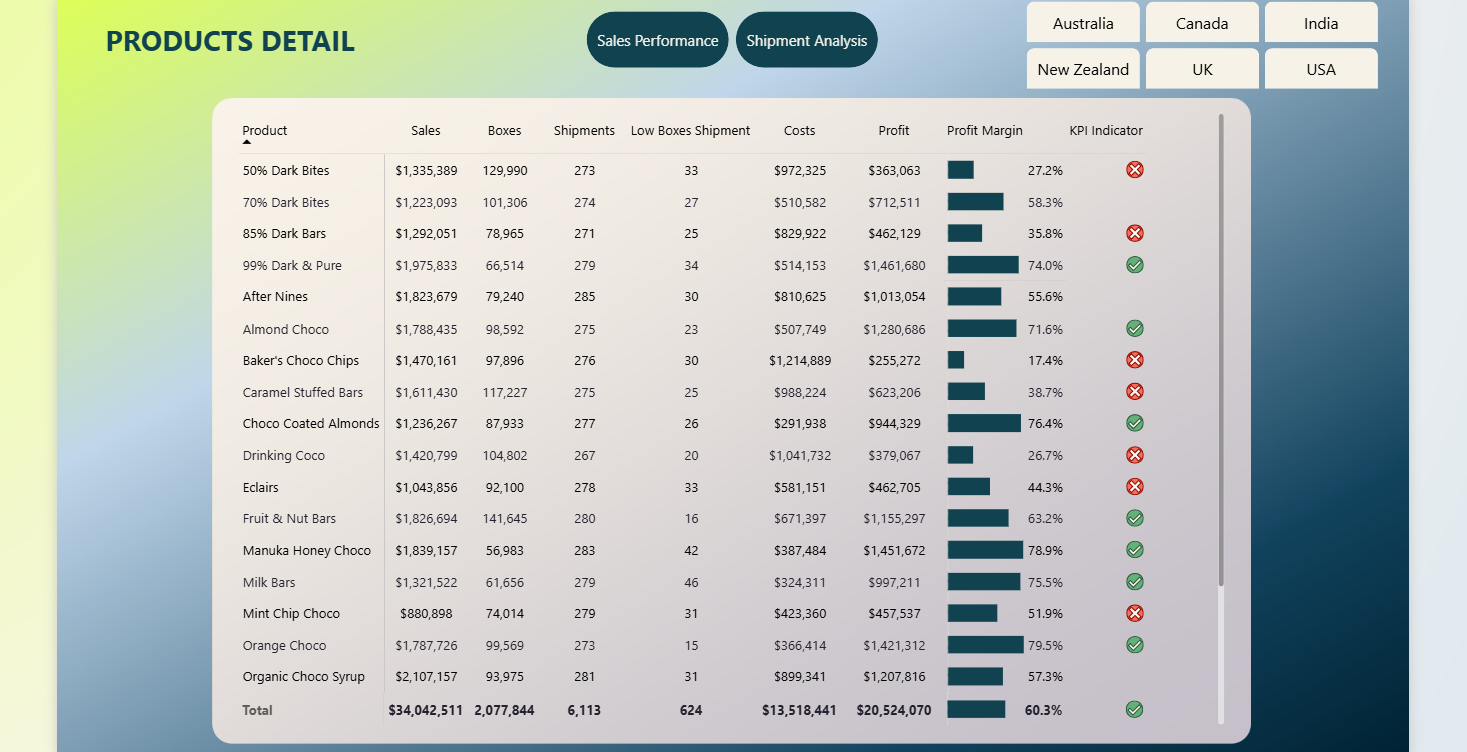

What the dashboard file says about the page in this screenshot:
{"tool":"powerbi","page":{"name":"Products Detail","canvas":[1920,1080],"ordinal":2},"visuals":[{"type":"pivotTable","title":"Product Details","fields":{"Rows":["products.Product"],"Values":["_Measures.Total Sales","_Measures.Total Boxes","_Measures.Total Shipments","_Measures.Low Boxes Shipment Count","_Measures.Total Costs","_Measures.Total Profit","_Measures.Profit Margin","_Measures.Profit Target Indicator"]},"box":[229.4,134.8,1458.9,926.9],"z":0},{"type":"actionButton","box":[0,0,100,40],"z":1000},{"type":"textbox","title":"PRODUCTS DETAIL","box":[63.8,26,472.9,66.2],"z":2000},{"type":"pageNavigator","box":[747.5,15,425,90],"z":3000},{"type":"advancedSlicerVisual","fields":{"Values":["locations.Geo"]},"box":[1373.8,0,510.7,134.8],"z":4000}]}

Visuals, with their boxes on the page's 1920x1080 design canvas (x1, y1, x2, y2). These are canvas units, not pixel positions in the 1467x752 screenshot, which may show the page scaled, cropped or inside an application window:
"Product Details" pivotTable: <region>229, 135, 1688, 1062</region>
actionButton: <region>0, 0, 100, 40</region>
"PRODUCTS DETAIL" textbox: <region>64, 26, 537, 92</region>
pageNavigator: <region>748, 15, 1172, 105</region>
advancedSlicerVisual - locations.Geo: <region>1374, 0, 1884, 135</region>
